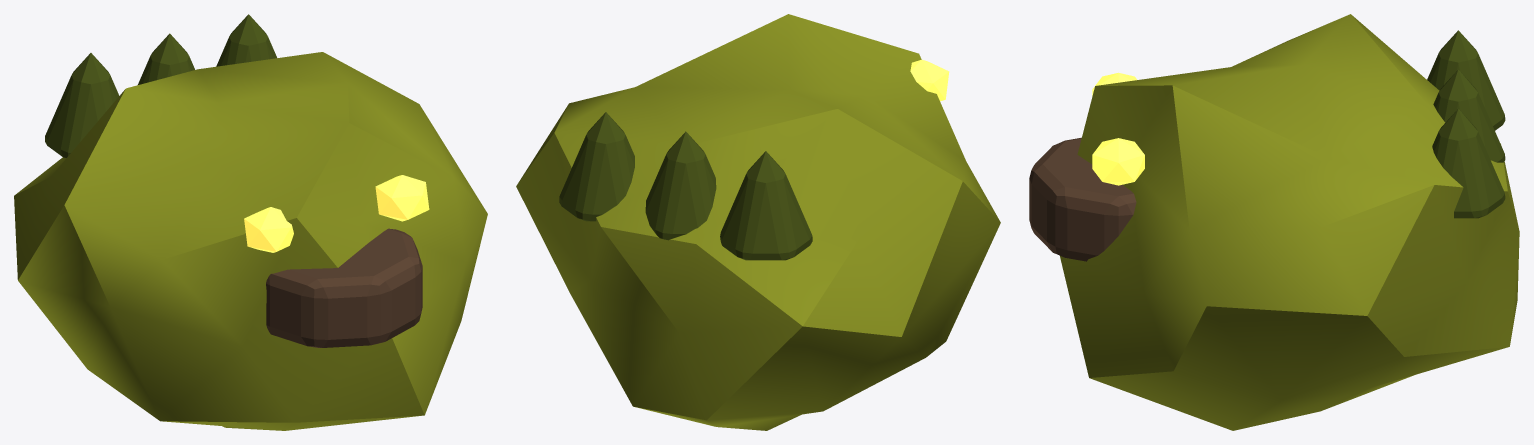
File: enemy_thornling_lobber.glb
3 views of the same model, side by side, from view 1: azimuth 30°, elevation 25°; view 2: azimuth 150°, elevation 25°; view 3: azimuth 270°, elevation 25° (orthographic).
Visible parts, largest first — view 1: Body, Mouth, Back0, EyeR, Back2, EyeL, Back1; view 2: Body, Back0, Back2, Back1, EyeL; view 3: Body, Mouth, Back2, Back0, Back1, EyeR.
Part boxes in pixels (x1,y1,x2,y2): Body: (14,52,487,430); Mouth: (266,228,422,347); Back0: (45,53,119,158); EyeR: (375,175,429,221); Back2: (216,14,276,66); EyeL: (244,207,293,252); Back1: (138,33,194,84); Body: (516,14,1000,430); Back0: (720,151,812,260); Back2: (559,112,634,221); Back1: (645,131,716,240); EyeL: (910,59,949,101); Body: (1060,14,1519,430); Mouth: (1029,137,1136,261); Back2: (1432,108,1505,218); Back0: (1427,30,1505,130); Back1: (1433,69,1505,162); EyeR: (1092,138,1144,185).
Bounding box in the file's own units: 0.6108 × 0.5078 × 0.6348.
